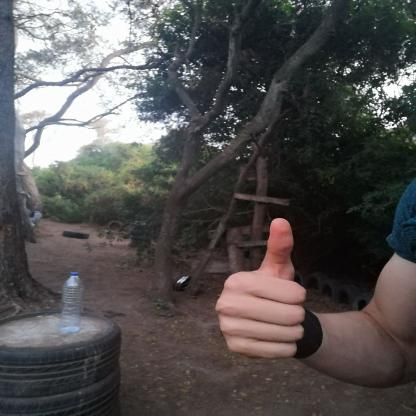ALIF: (207, 210, 328, 365)
